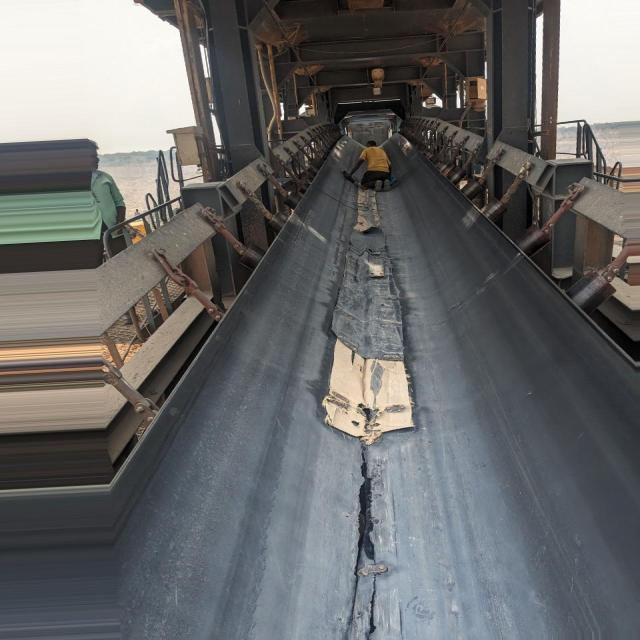Human: (345, 140, 391, 191)
Roller: (422, 145, 617, 316), (238, 141, 330, 271)
Tear: (357, 463, 374, 557)
patch work: (324, 226, 413, 440)
